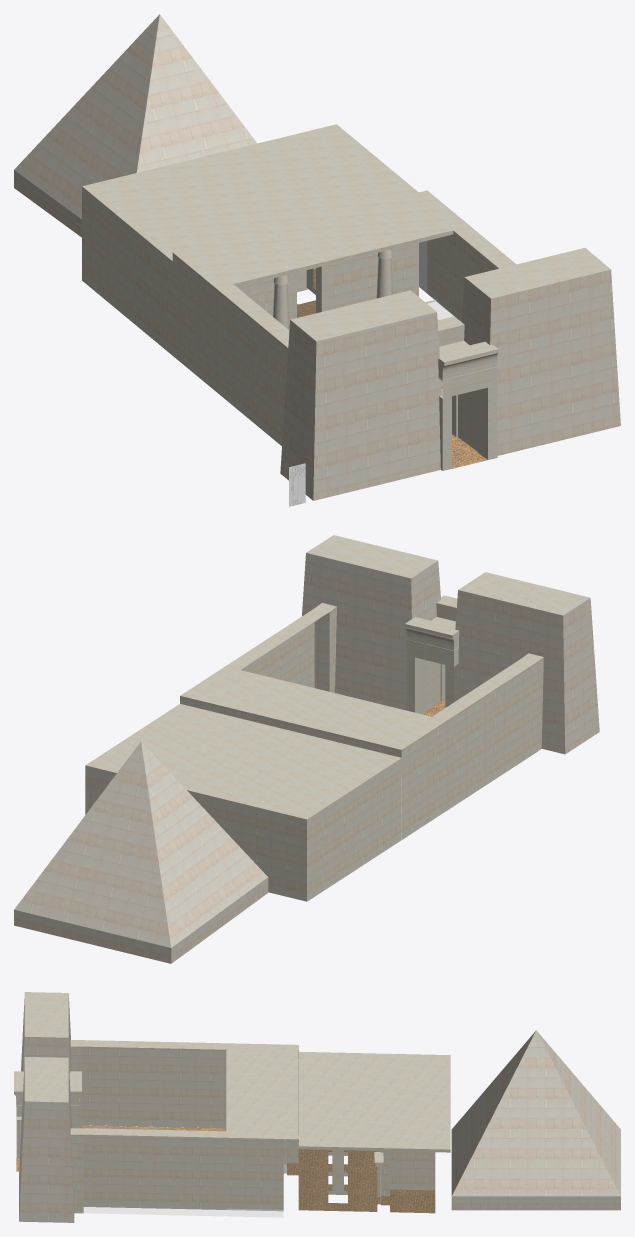
The model's file is Isisnofret.glb.
The picture shows the model from 3 angles, top to bottom: view 1: azimuth 30°, elevation 25°; view 2: azimuth 150°, elevation 25°; view 3: azimuth 270°, elevation 25°; orthographic projection. The views are drawn at different scales.
Visible parts, largest first — view 1: Mesh20 Model, Mesh22 Model, Mesh13 Component_28_1 Model, Mesh2 Component_1_1 Model, Mesh10 Component_1_2 Model, Mesh25 Model; view 2: Mesh20 Model, Mesh22 Model, Mesh13 Component_28_1 Model; view 3: Mesh20 Model, Mesh22 Model, Mesh13 Component_28_1 Model, Mesh12 Component_2_2 Model.
Boxes of the visible parts, bbox=[...] form: Mesh20 Model: bbox=[82, 124, 620, 500]; Mesh22 Model: bbox=[14, 14, 257, 237]; Mesh13 Component_28_1 Model: bbox=[437, 316, 498, 470]; Mesh2 Component_1_1 Model: bbox=[273, 275, 288, 329]; Mesh10 Component_1_2 Model: bbox=[376, 249, 392, 298]; Mesh25 Model: bbox=[289, 463, 305, 506]; Mesh20 Model: bbox=[85, 535, 599, 901]; Mesh22 Model: bbox=[14, 741, 268, 963]; Mesh13 Component_28_1 Model: bbox=[405, 595, 459, 714]; Mesh20 Model: bbox=[16, 992, 450, 1222]; Mesh22 Model: bbox=[451, 1030, 620, 1210]; Mesh13 Component_28_1 Model: bbox=[14, 1071, 81, 1158]; Mesh12 Component_2_2 Model: bbox=[328, 1150, 347, 1194].
Size of the model in its own units: 13.57 by 7.45 by 27.96.
Materials: 12 (11 with a texture image).
